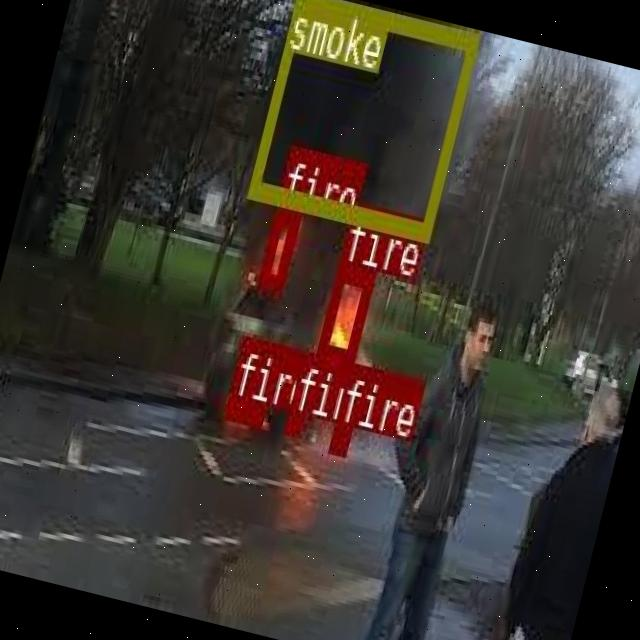fire: (314, 258, 375, 366), (254, 205, 300, 292), (223, 396, 264, 424), (328, 422, 350, 452), (284, 408, 304, 434)
smoke: (247, 0, 478, 237)
